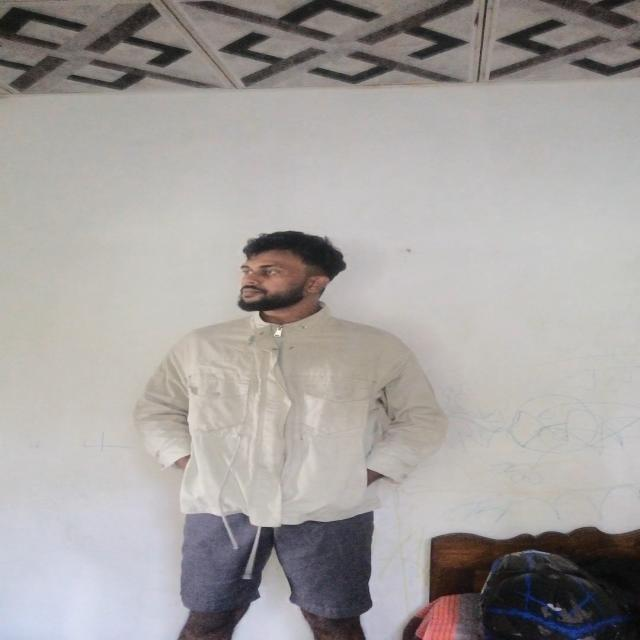Jacket_Wearer: (123, 305, 450, 540)
Person: (134, 228, 448, 614)
